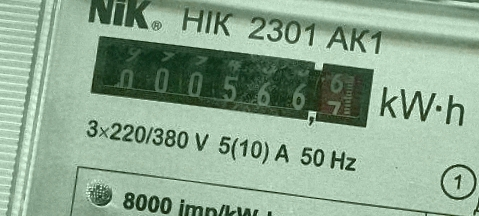0: (185, 68, 206, 99), (151, 63, 171, 94), (115, 64, 137, 89)
5: (219, 72, 241, 103)
6: (288, 78, 310, 111), (252, 77, 274, 107), (328, 70, 347, 97)
7: (324, 98, 342, 117)
9: (122, 42, 142, 64)
screen: (80, 26, 380, 136)
